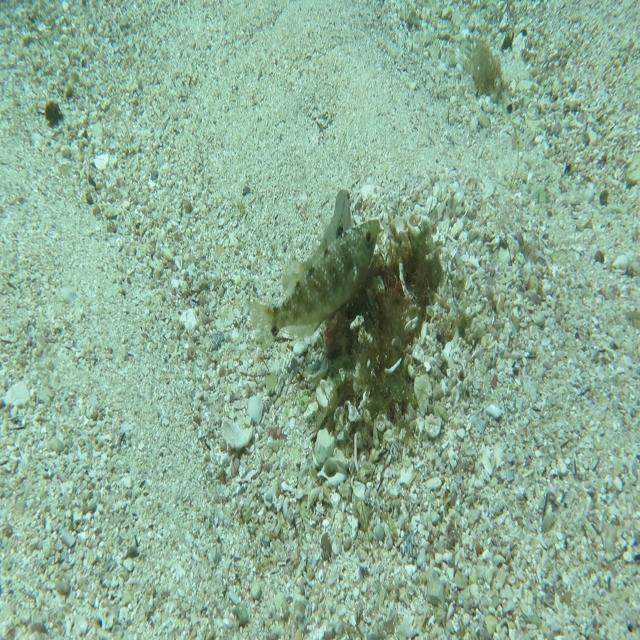FAN: (245, 218, 381, 354)
core_nest: (387, 251, 435, 297)
female: (281, 188, 355, 290)
nest: (308, 207, 462, 462)
